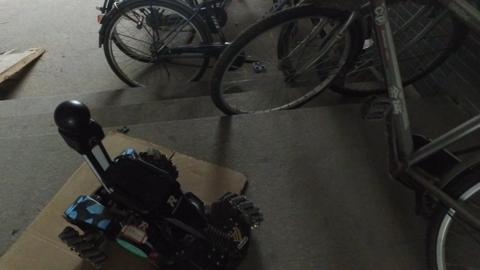chariot: (48, 98, 271, 268)
